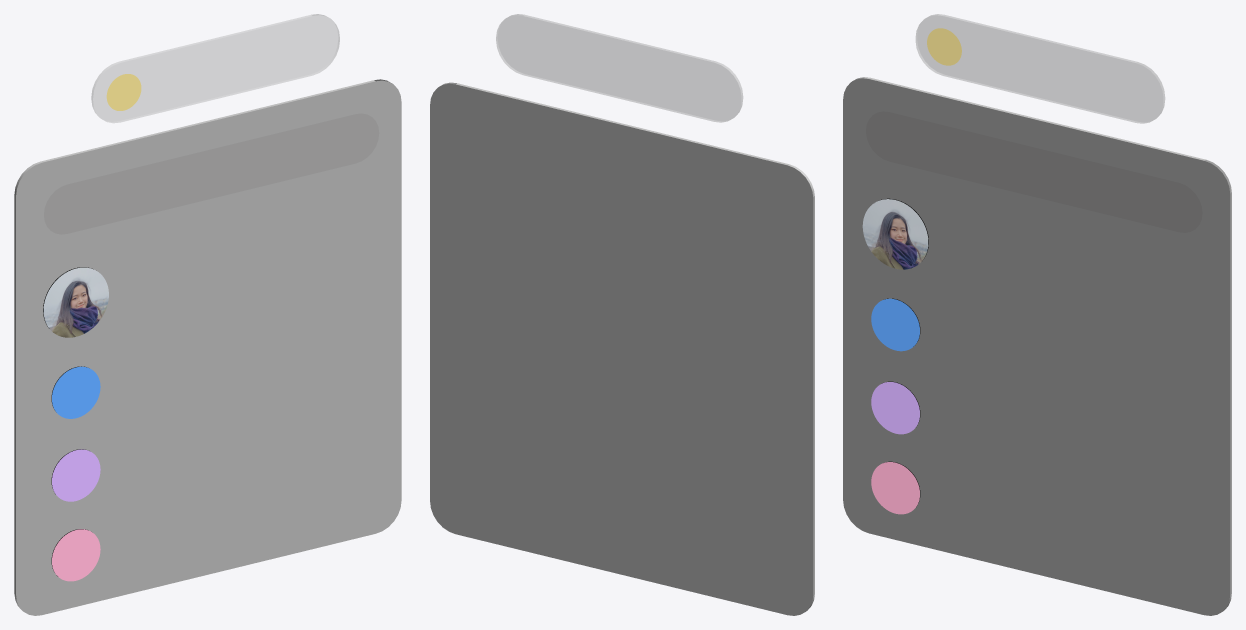
3 renders of one model, left to right at view 1: azimuth 30°, elevation 25°; view 2: azimuth 150°, elevation 25°; view 3: azimuth 330°, elevation 25°, orthographic.
Parts seen in each view (by area): view 1: Plane (×2), Plane 2, Avatar (×5); view 2: Plane (×2); view 3: Plane (×2), Plane 2, Avatar (×5).
Boxes of the visible parts, left/top/right/bottom form: Plane (×2): left=14, top=14, right=401, bottom=615; Plane 2: left=44, top=114, right=378, bottom=234; Avatar (×5): left=43, top=74, right=141, bottom=581; Plane (×2): left=430, top=14, right=814, bottom=615; Plane (×2): left=843, top=14, right=1231, bottom=615; Plane 2: left=866, top=111, right=1202, bottom=232; Avatar (×5): left=862, top=28, right=961, bottom=514.
Bounding box in the file's own units: 0.6739 × 0.8944 × 0.0169.
Materials: 12 (1 with a texture image).
